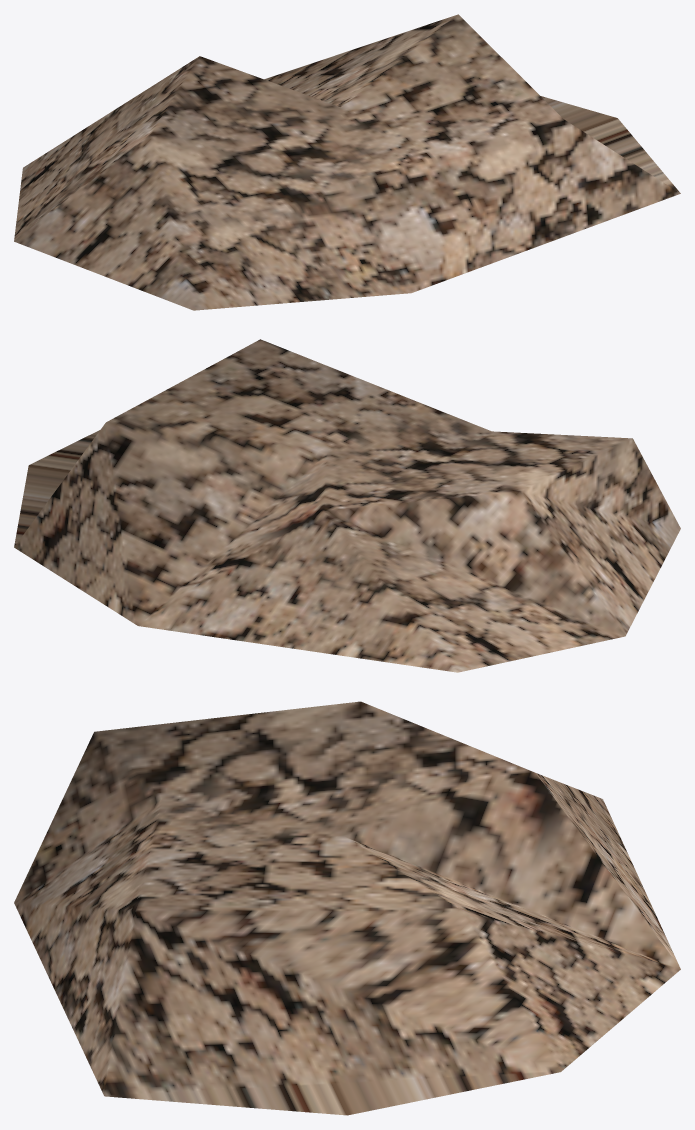
File: dugdirt_1.fbx
3 renders of one model, top to bottom at view 1: azimuth 30°, elevation 25°; view 2: azimuth 150°, elevation 25°; view 3: azimuth 270°, elevation 25°, orthographic. The views are drawn at different scales.
Parts seen in each view (by area): view 1: Gravel_01.001; view 2: Gravel_01.001; view 3: Gravel_01.001.
Boxes of the visible parts, x1,y1,x2,y2 form: Gravel_01.001: [14, 14, 680, 310]; Gravel_01.001: [14, 339, 680, 672]; Gravel_01.001: [14, 701, 680, 1115].
Bounding box in the file's own units: 156 × 25.69 × 119.
1 material, 1 textured.
